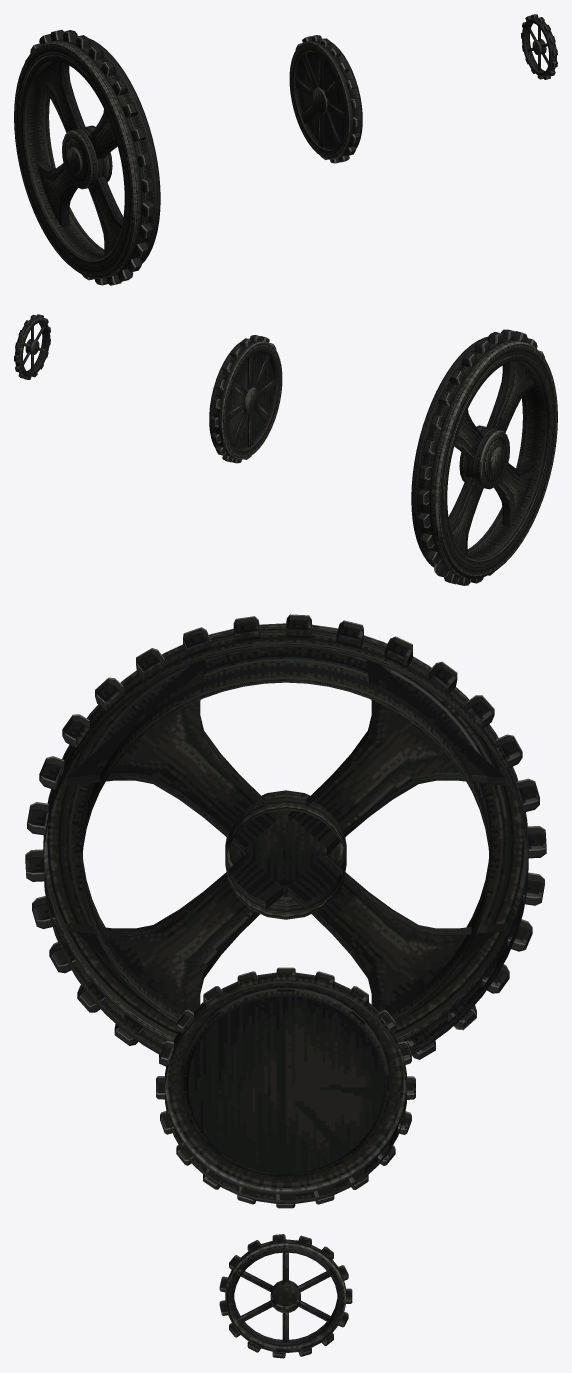
Rendered from EnvMdrMD_ClockTower_Gear_A.FBX.
The picture shows the model from 3 angles, top to bottom: view 1: azimuth 30°, elevation 25°; view 2: azimuth 150°, elevation 25°; view 3: azimuth 270°, elevation 25°; orthographic projection. The views are drawn at different scales.
Visible parts, largest first — view 1: EnvMdrMD_ClockTower_Gear_C, EnvMdrMD_ClockTower_Gear_B, EnvMdrMD_ClockTower_Gear_A; view 2: EnvMdrMD_ClockTower_Gear_C, EnvMdrMD_ClockTower_Gear_B, EnvMdrMD_ClockTower_Gear_A; view 3: EnvMdrMD_ClockTower_Gear_C, EnvMdrMD_ClockTower_Gear_B, EnvMdrMD_ClockTower_Gear_A.
Part boxes in pixels (<box>): EnvMdrMD_ClockTower_Gear_C: <box>14,29,160,285</box>; EnvMdrMD_ClockTower_Gear_B: <box>289,35,362,163</box>; EnvMdrMD_ClockTower_Gear_A: <box>521,14,557,79</box>; EnvMdrMD_ClockTower_Gear_C: <box>411,329,557,585</box>; EnvMdrMD_ClockTower_Gear_B: <box>209,335,282,463</box>; EnvMdrMD_ClockTower_Gear_A: <box>14,314,50,379</box>; EnvMdrMD_ClockTower_Gear_C: <box>25,614,546,1066</box>; EnvMdrMD_ClockTower_Gear_B: <box>156,967,415,1208</box>; EnvMdrMD_ClockTower_Gear_A: <box>219,1234,352,1358</box>.
Size of the model in its own units: 1785 by 859 by 859.
Materials: 1 (1 with a texture image).
